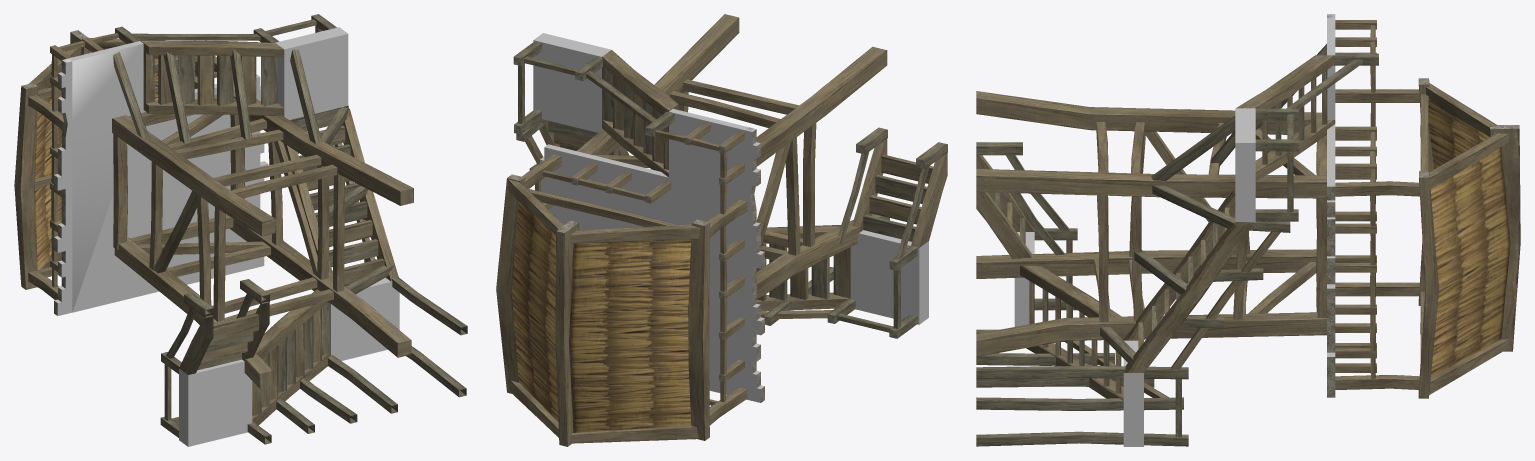
The model's file is Watch_Tower_D.fbx.
3 views of the same model, side by side, from view 1: azimuth 30°, elevation 25°; view 2: azimuth 150°, elevation 25°; view 3: azimuth 270°, elevation 25° (orthographic). The views are drawn at different scales.
Parts seen in each view (by area): view 1: Watch_Tower_D; view 2: Watch_Tower_D; view 3: Watch_Tower_D.
Boxes of the visible parts, <box> form: Watch_Tower_D: <box>14,14,467,446</box>; Watch_Tower_D: <box>496,14,947,446</box>; Watch_Tower_D: <box>976,14,1520,446</box>.
Size of the model in its own units: 10.3 by 10.37 by 16.83.
